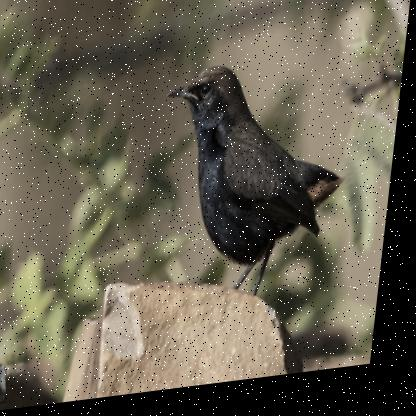Burung: (151, 58, 362, 315)
